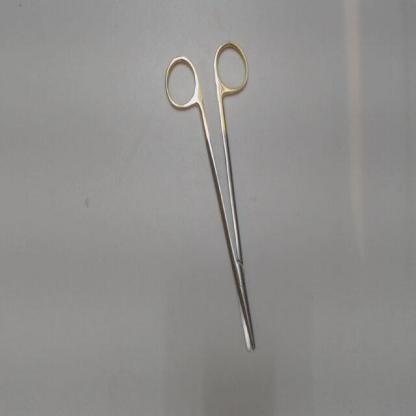7 Metzenbaum Scissors: (159, 32, 260, 357)
